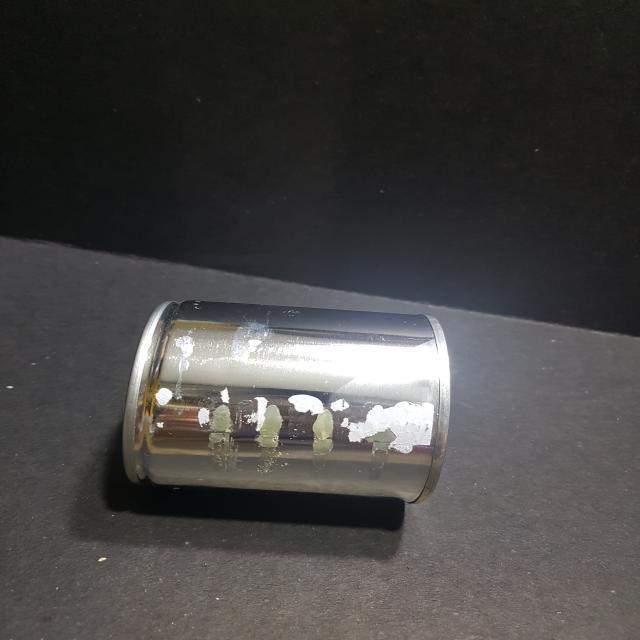metal-can: (115, 294, 452, 514)
